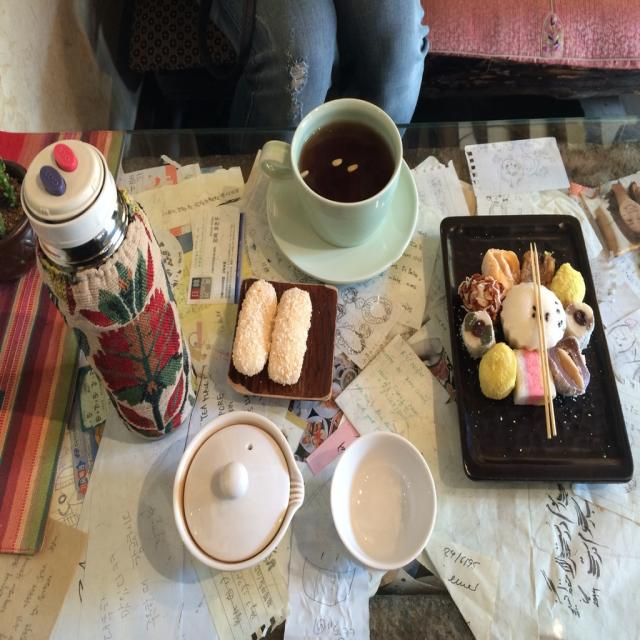Coffee: (303, 115, 396, 202)
Tea: (299, 120, 392, 202)
